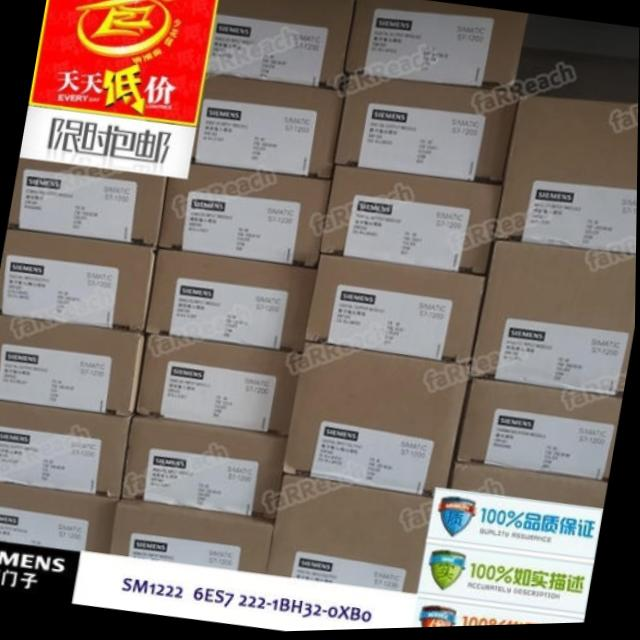box: (283, 340, 471, 499), (472, 247, 637, 400), (492, 98, 639, 259), (334, 73, 519, 187), (306, 253, 486, 366), (267, 479, 435, 594), (321, 169, 503, 274), (158, 165, 335, 270), (145, 249, 319, 354), (120, 416, 286, 523), (135, 336, 303, 441), (456, 382, 622, 484), (348, 0, 527, 94), (0, 230, 159, 332), (191, 77, 345, 180), (0, 314, 145, 416), (9, 158, 168, 247), (0, 398, 134, 501), (207, 0, 353, 90), (110, 498, 274, 576), (0, 481, 120, 553), (450, 460, 609, 512), (515, 53, 639, 111)
